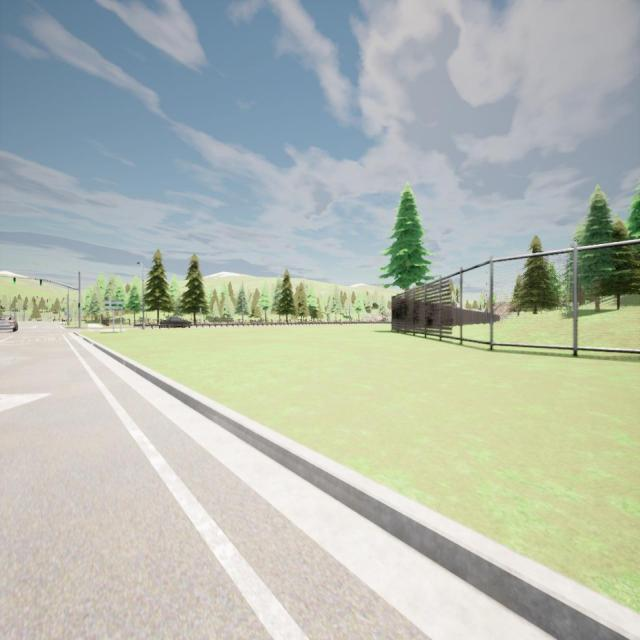Traffic_Signs: (104, 301, 123, 310)
Vehicle: (159, 316, 191, 328), (0, 314, 18, 332)
traffic_light: (13, 277, 16, 284), (40, 279, 42, 286), (78, 303, 80, 308)
